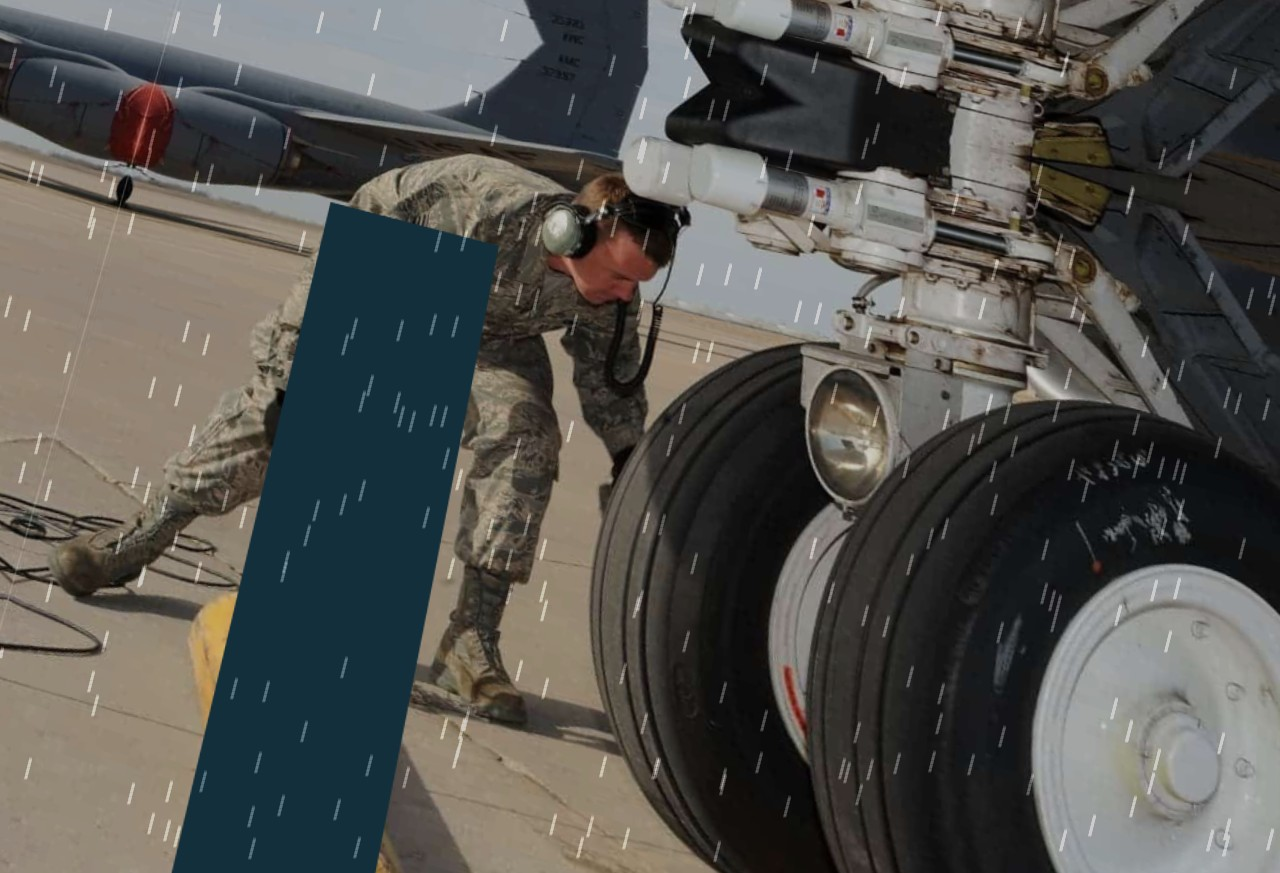chock: (122, 564, 467, 873)
wheel: (732, 329, 1280, 873), (543, 286, 995, 873)
